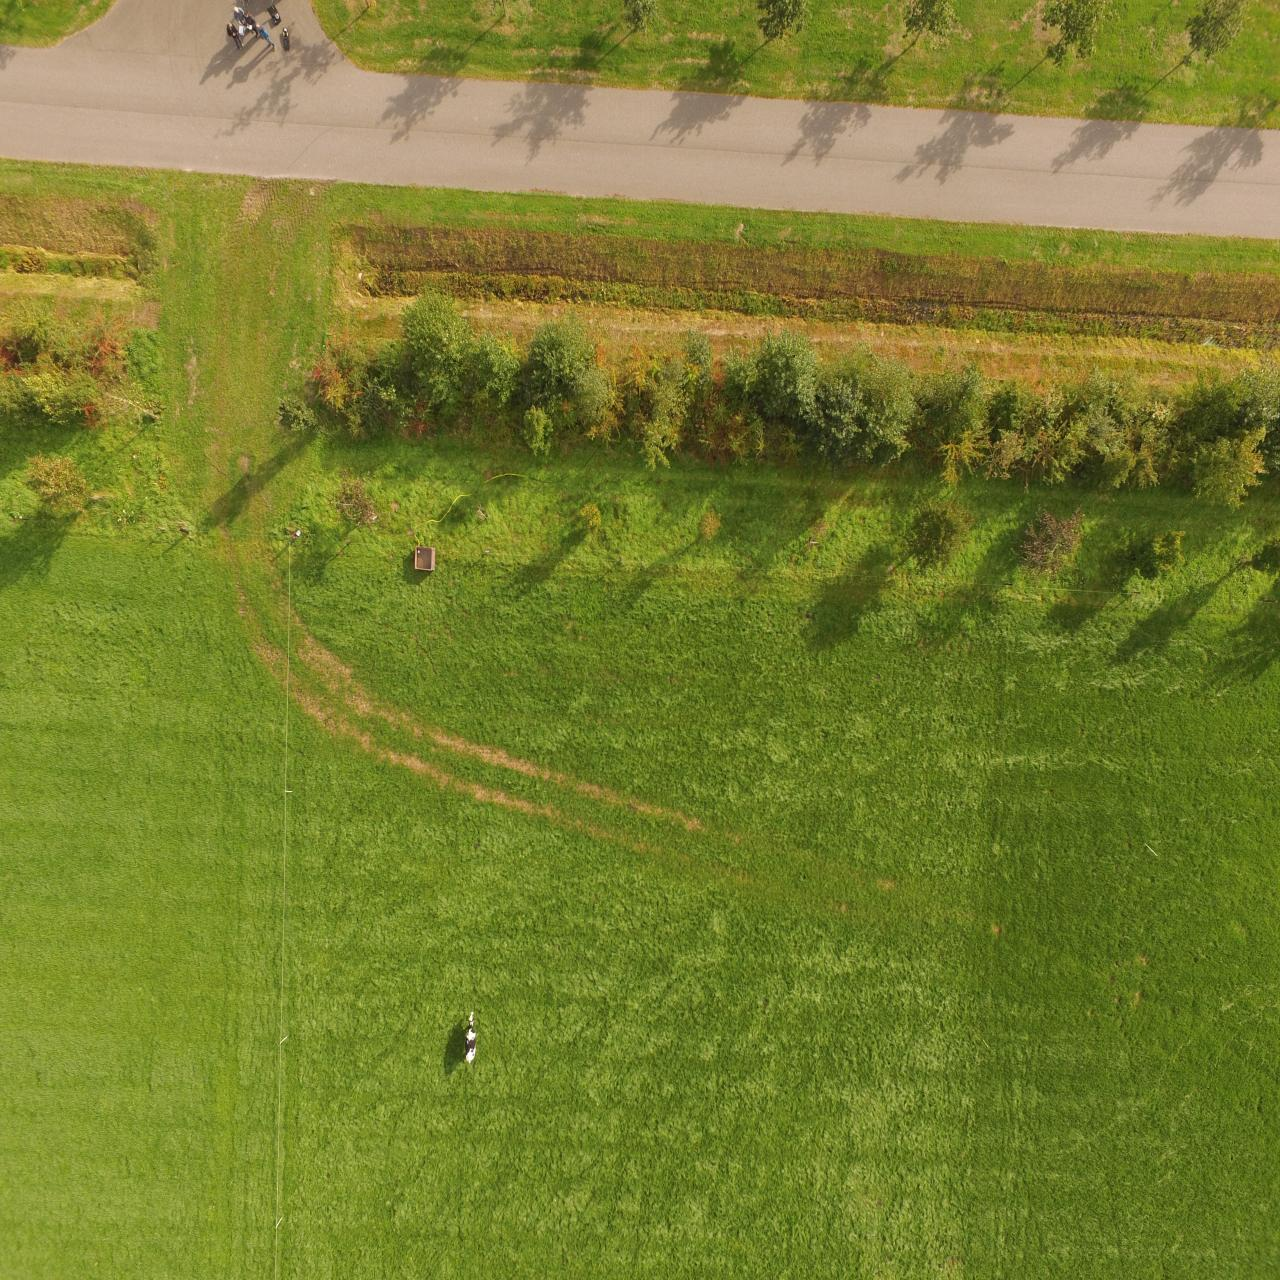cow: (463, 1006, 479, 1064)
